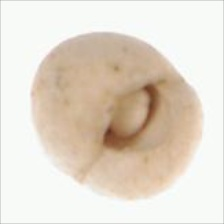L3: (102, 81, 170, 154)
L4: (30, 32, 204, 198)
